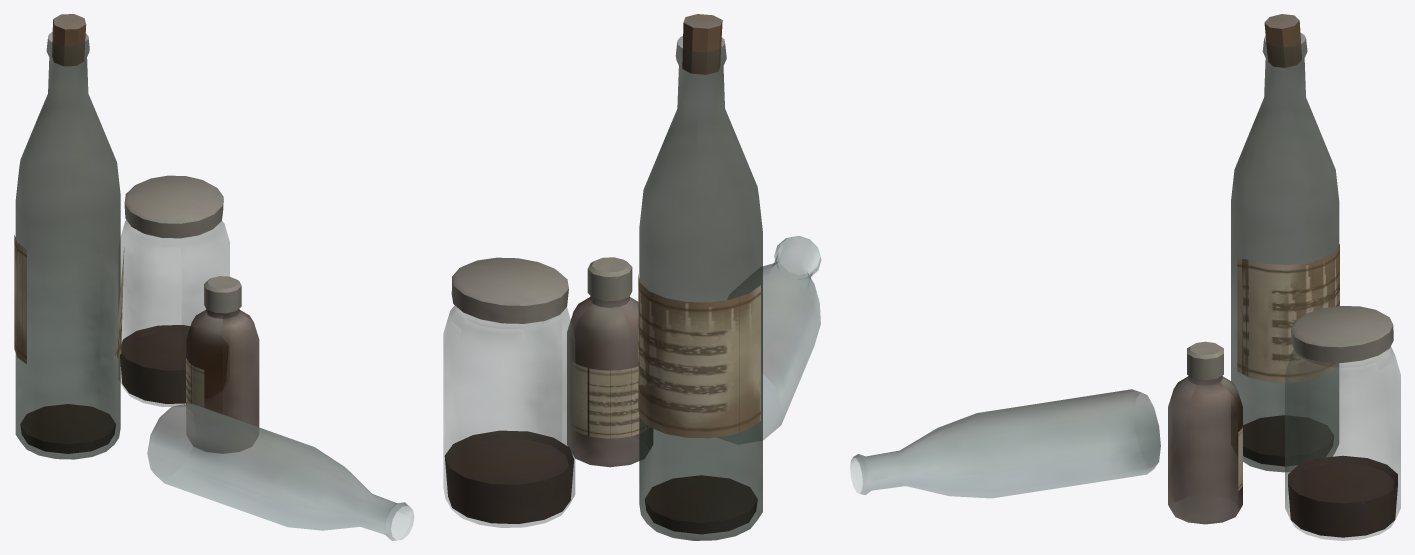
Rendered from dressing_bottles.glb.
3 views of the same model, side by side, from view 1: azimuth 30°, elevation 25°; view 2: azimuth 150°, elevation 25°; view 3: azimuth 270°, elevation 25° (orthographic). The views are drawn at different scales.
Visible parts, largest first — view 1: dressing_bottles_glass, dressing_bottles; view 2: dressing_bottles_glass, dressing_bottles; view 3: dressing_bottles_glass, dressing_bottles.
Part boxes in pixels (<box>): dressing_bottles_glass: <box>15,32,413,540</box>; dressing_bottles: <box>14,14,241,453</box>; dressing_bottles_glass: <box>443,36,821,540</box>; dressing_bottles: <box>444,14,760,534</box>; dressing_bottles_glass: <box>850,32,1400,540</box>; dressing_bottles: <box>1187,14,1397,537</box>.
Bounding box in the file's own units: 0.1875 × 0.3289 × 0.3805.
Materials: 2 (2 with a texture image).
